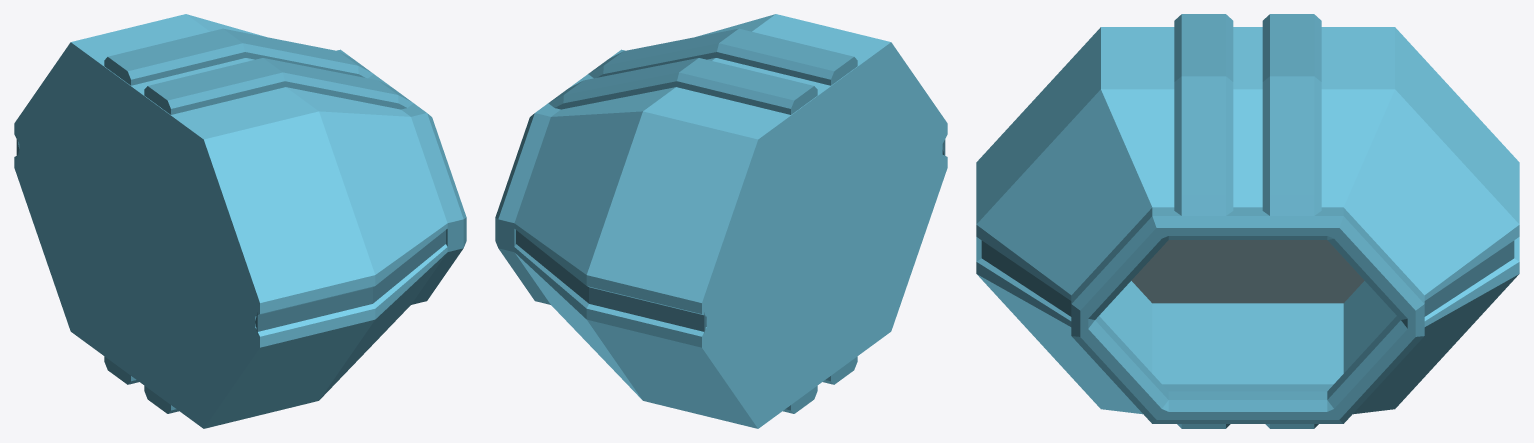
The model's file is spacestation_propulsion_hyperdrive_rearmount_medium.glb.
3 views of the same model, side by side, from view 1: azimuth 30°, elevation 25°; view 2: azimuth 150°, elevation 25°; view 3: azimuth 270°, elevation 25° (orthographic). The views are drawn at different scales.
Bounding box in the file's own units: 1.1 × 1.3 × 1.85.
